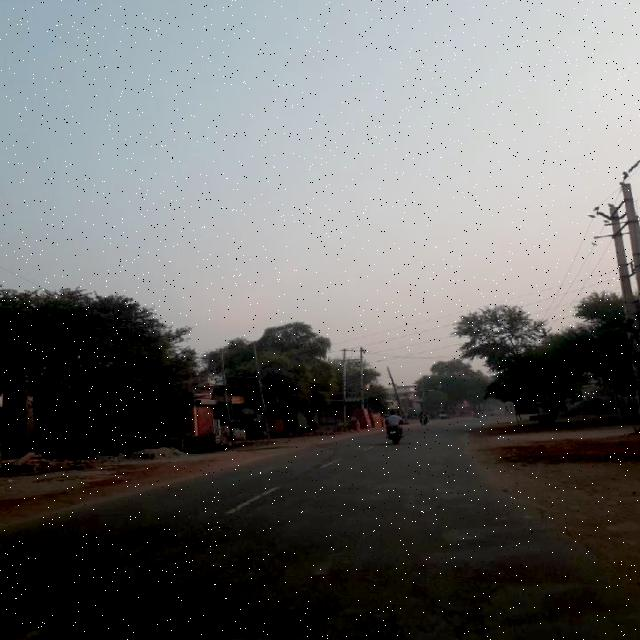D44: (226, 481, 284, 515)
